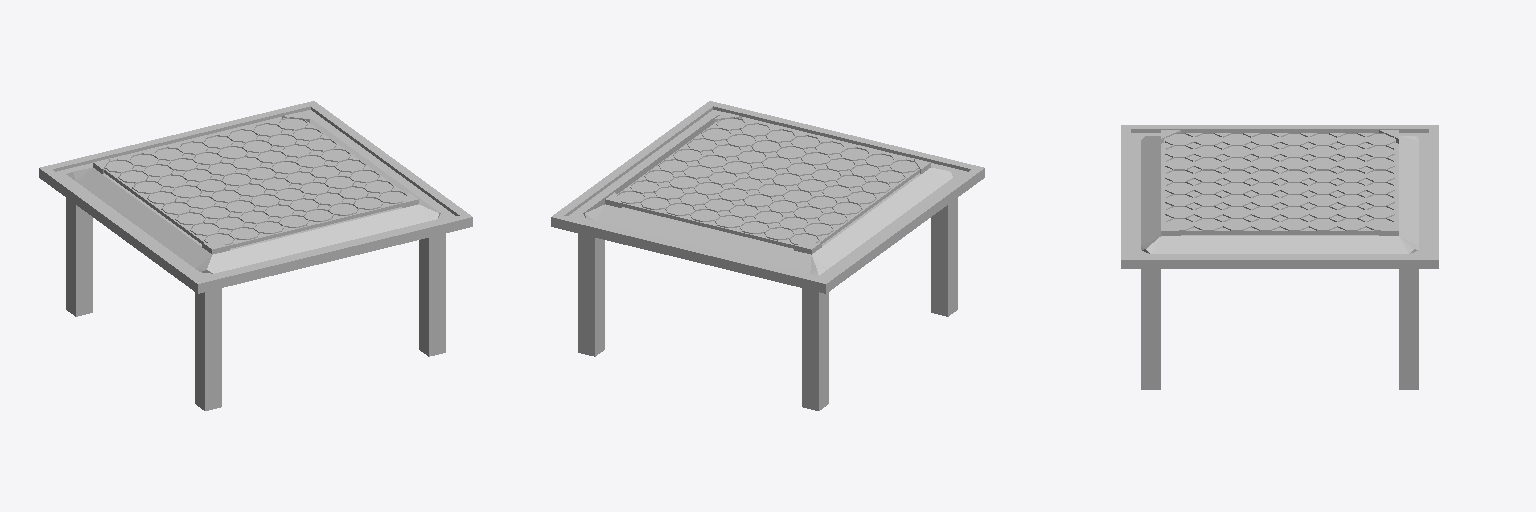
Rendered from mesa_base.obj.
3 views of the same model, side by side, from view 1: azimuth 30°, elevation 25°; view 2: azimuth 150°, elevation 25°; view 3: azimuth 270°, elevation 25° (orthographic).
Parts seen in each view (by area): view 1: Cube; view 2: Cube; view 3: Cube.
Part boxes in pixels (x1,y1,x2,y2): Cube: (39,101,472,410); Cube: (551,101,984,410); Cube: (1121,125,1438,389).
Bounding box in the file's own units: 2 × 1.04 × 2.